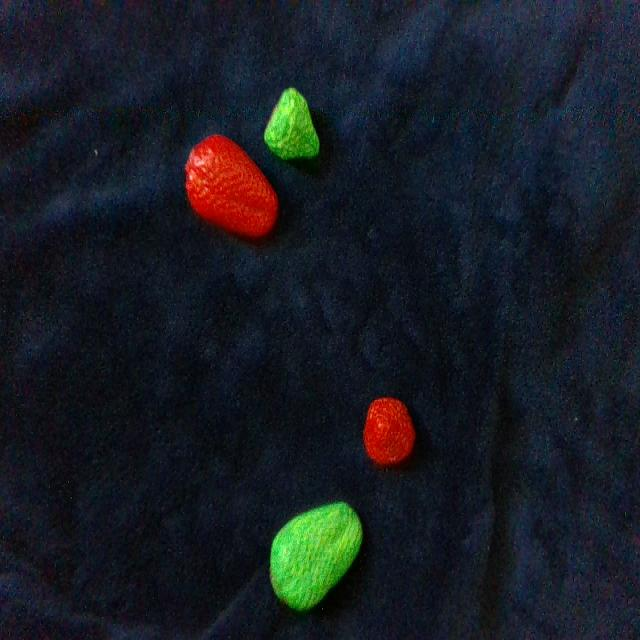chica_roja: (365, 399, 414, 464)
grande_roja: (187, 135, 277, 237)
verde: (270, 503, 362, 609), (265, 88, 319, 159)
